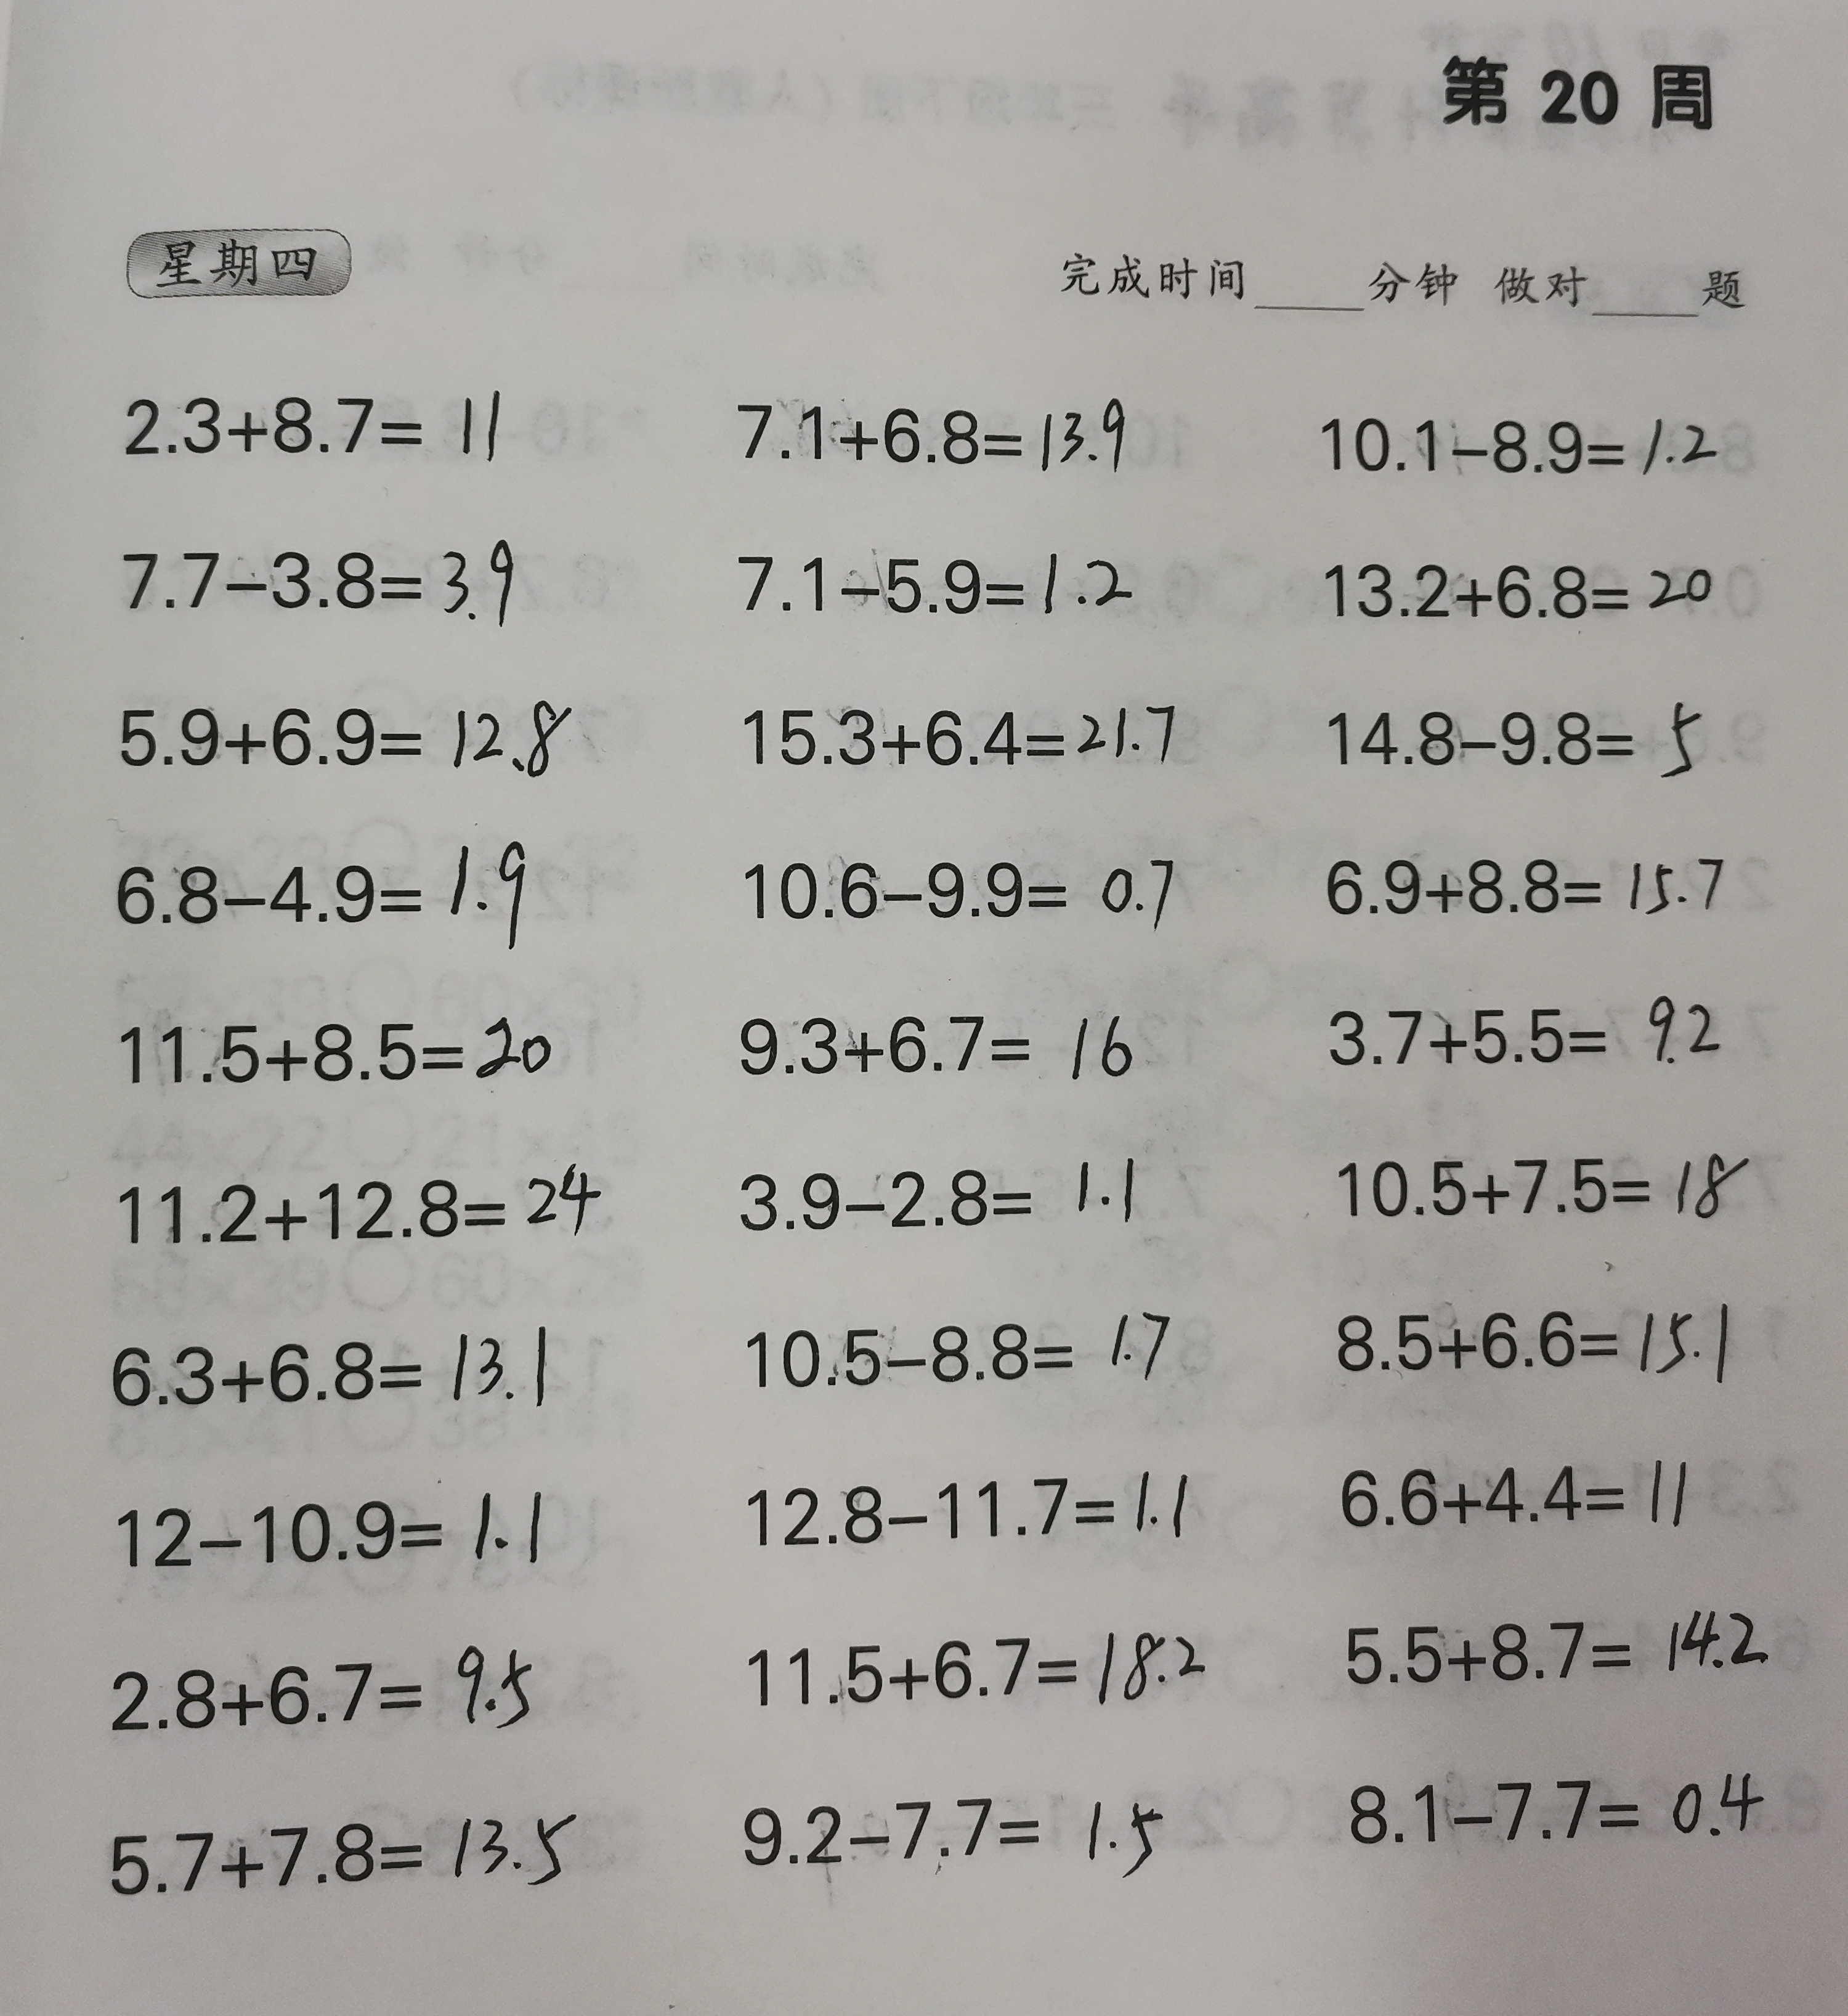equation: (720, 1774, 1193, 1912), (1306, 351, 1753, 497), (1316, 1749, 1794, 1884), (112, 1454, 570, 1595), (723, 1438, 1214, 1568), (93, 662, 572, 794), (90, 1296, 577, 1422), (716, 1609, 1234, 1726), (97, 1793, 591, 1916), (732, 1280, 1200, 1408), (84, 976, 579, 1098), (93, 513, 548, 644), (1322, 1271, 1783, 1400), (97, 1148, 623, 1259), (88, 1626, 555, 1751), (95, 827, 549, 952), (1300, 671, 1736, 801), (711, 516, 1153, 641), (720, 827, 1207, 940), (1325, 1586, 1802, 1700), (721, 364, 1142, 490), (716, 975, 1153, 1094), (107, 342, 537, 464), (728, 1124, 1164, 1243), (739, 673, 1195, 783), (1309, 825, 1744, 940), (1327, 1126, 1769, 1236), (1302, 973, 1748, 1082), (1309, 536, 1751, 641), (1329, 1433, 1708, 1554)
